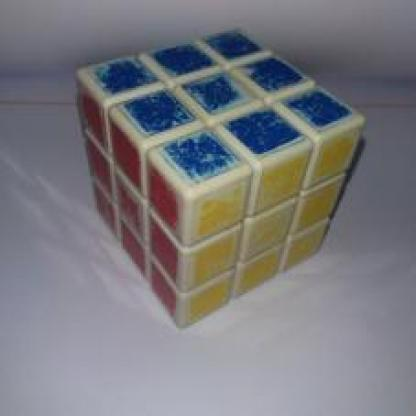cube: (72, 39, 400, 332)
